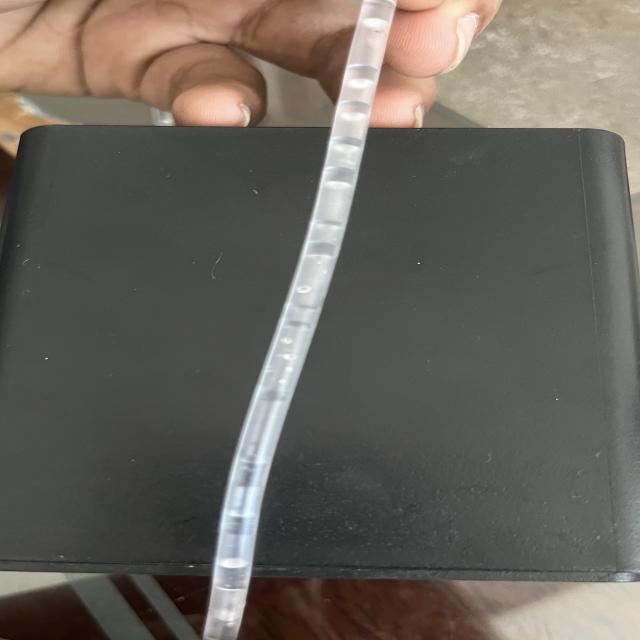bubble: (313, 18, 417, 72), (229, 389, 314, 437), (313, 182, 382, 219), (212, 528, 268, 573), (203, 586, 264, 626), (307, 144, 378, 177), (286, 220, 363, 248), (331, 94, 384, 134), (208, 481, 296, 504), (266, 298, 322, 328), (224, 453, 288, 474), (266, 352, 311, 371), (279, 279, 320, 298), (268, 332, 299, 347)
